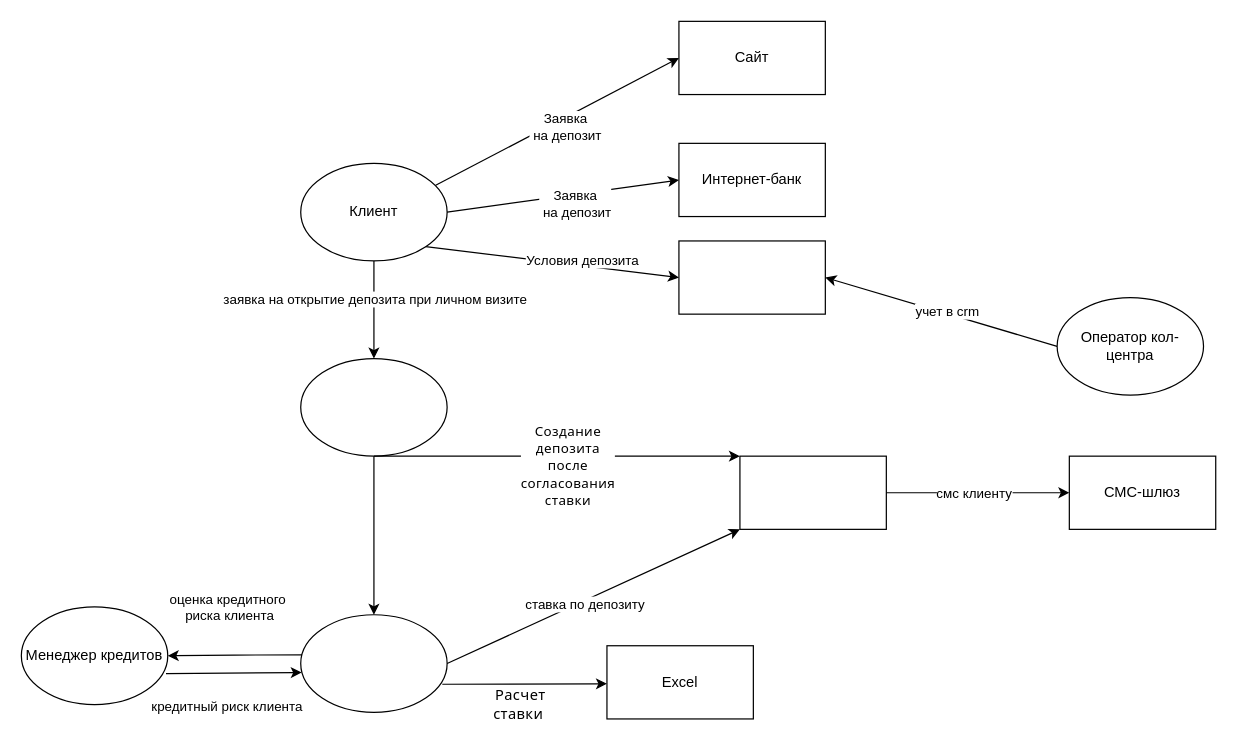
Some shapes in this 1237 by 750 pixel diagram are drawn without their labels. The centre of each missing label's shape, as x and y in pixels:
АБС: (812,492)
Кол центр: (751,277)
Менеджер депозитов: (373,663)
Сотрудник отделения: (373,406)
